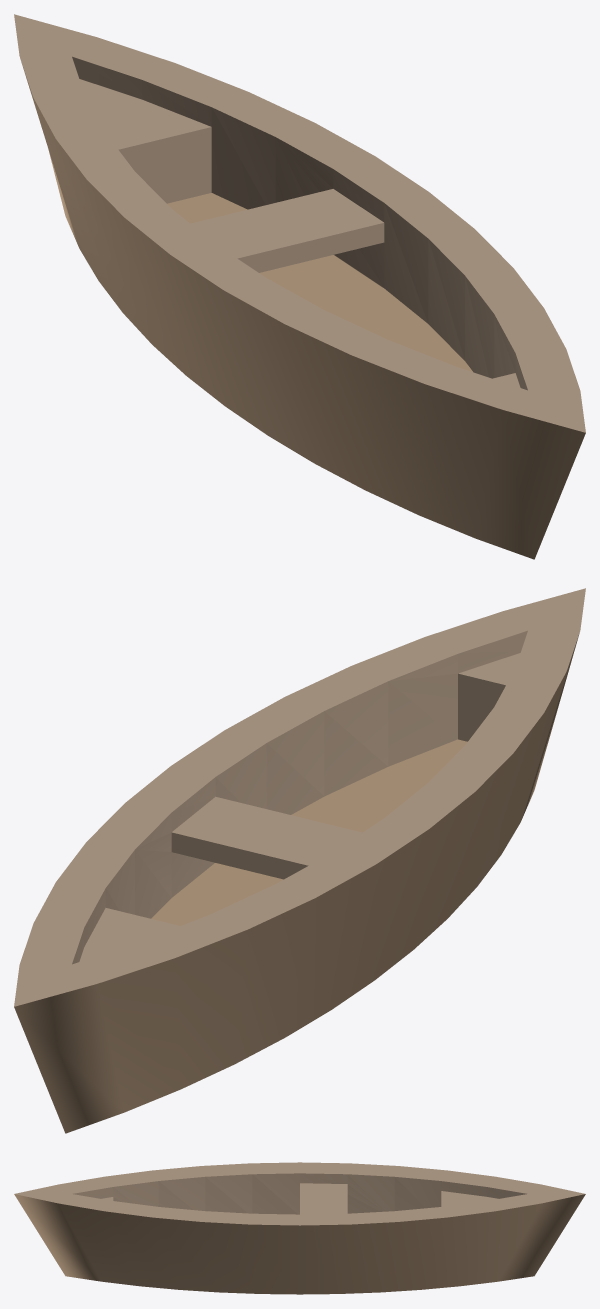
Rendered from K_Canoe.glb.
3 renders of one model, top to bottom at view 1: azimuth 30°, elevation 25°; view 2: azimuth 150°, elevation 25°; view 3: azimuth 270°, elevation 25°, orthographic. The views are drawn at different scales.
Visible parts, largest first — view 1: K_Canoe; view 2: K_Canoe; view 3: K_Canoe.
Part boxes in pixels (x1,y1,x2,y2): K_Canoe: [14, 14, 585, 559]; K_Canoe: [14, 588, 585, 1133]; K_Canoe: [14, 1162, 585, 1294].
Size of the model in its own units: 0.96 by 0.584 by 3.68.
